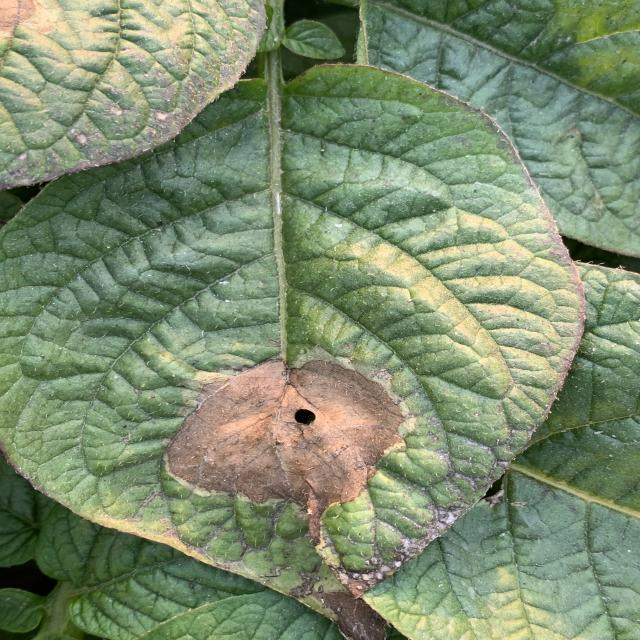lateblight: (167, 361, 403, 544)
